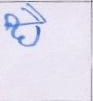ai_matra: (20, 3, 49, 21)
